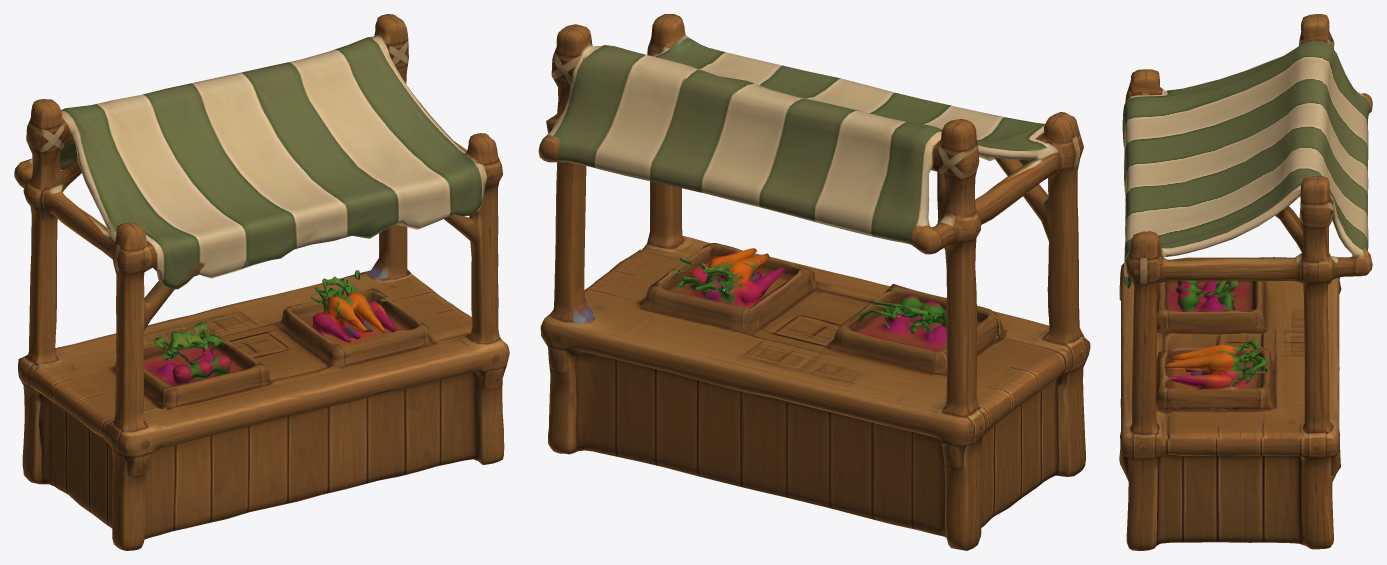
File: market_stall.glb
3 views of the same model, side by side, from view 1: azimuth 30°, elevation 25°; view 2: azimuth 150°, elevation 25°; view 3: azimuth 270°, elevation 25° (orthographic). The views are drawn at different scales.
Visible parts, largest first — view 1: tripo_node_c8a1fc1f; view 2: tripo_node_c8a1fc1f; view 3: tripo_node_c8a1fc1f.
Boxes of the visible parts, x1,y1,x2,y2 form: tripo_node_c8a1fc1f: (14, 14, 509, 550); tripo_node_c8a1fc1f: (538, 14, 1090, 550); tripo_node_c8a1fc1f: (1119, 14, 1372, 550).
Size of the model in its own units: 97.27 by 90.44 by 56.87.
Materials: 1 (1 with a texture image).
